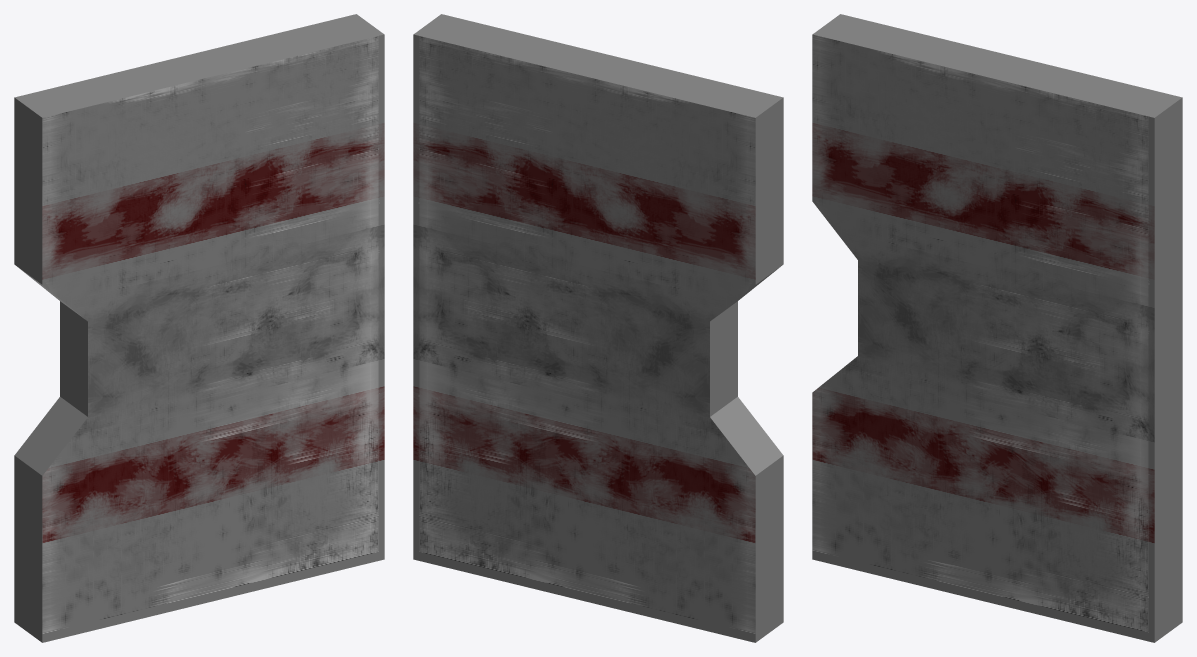
File: Sliding_Door_R.FBX
The picture shows the model from 3 angles, left to right: view 1: azimuth 30°, elevation 25°; view 2: azimuth 150°, elevation 25°; view 3: azimuth 330°, elevation 25°; orthographic projection.
Visible parts, largest first — view 1: Slide_Door_Right; view 2: Slide_Door_Right; view 3: Slide_Door_Right.
Part boxes in pixels (bbox=[...]): Slide_Door_Right: bbox=[14, 14, 384, 642]; Slide_Door_Right: bbox=[413, 14, 783, 642]; Slide_Door_Right: bbox=[812, 14, 1182, 642].
Size of the model in its own units: 240 by 352 by 34.
